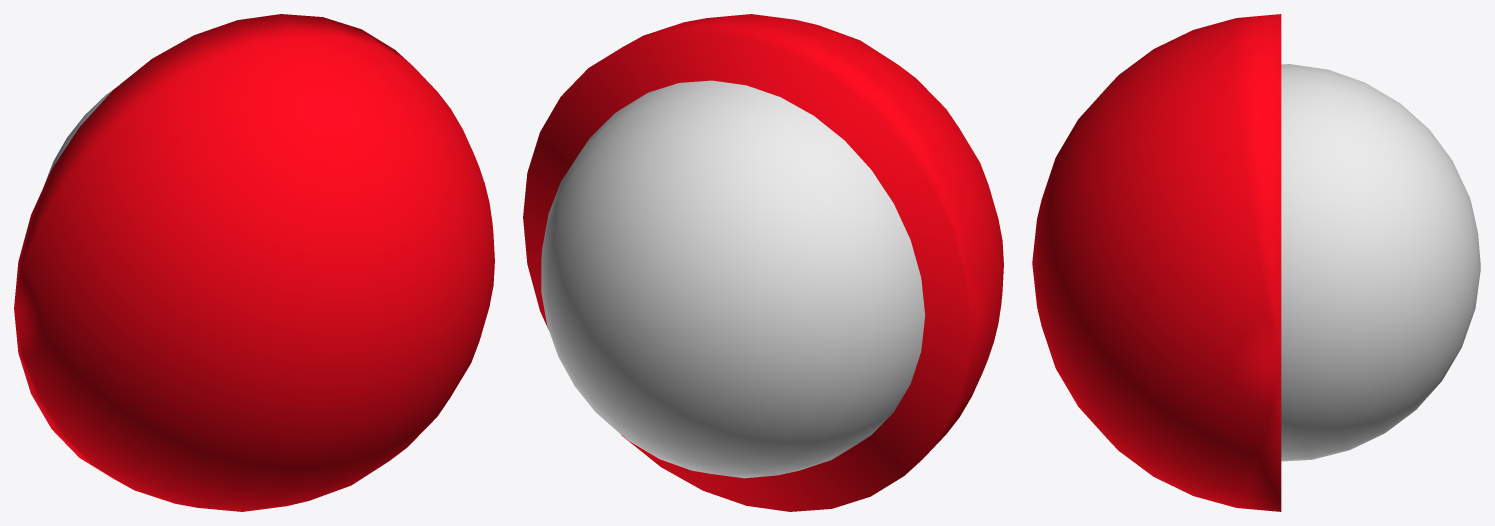
File: input_unidirectional.glb
The picture shows the model from 3 angles, left to right: view 1: azimuth 30°, elevation 25°; view 2: azimuth 150°, elevation 25°; view 3: azimuth 270°, elevation 25°; orthographic projection. The views are drawn at different scales.
Visible parts, largest first — view 1: Sphere.002; view 2: Sphere.001, Sphere.002; view 3: Sphere.002, Sphere.001.
Boxes of the visible parts, box(x1,y1,x2,y2) form: Sphere.002: box(14, 14, 494, 511); Sphere.001: box(541, 80, 925, 478); Sphere.002: box(523, 14, 1003, 511); Sphere.002: box(1032, 14, 1281, 511); Sphere.001: box(1281, 64, 1480, 461).
Size of the model in its own units: 0.6 by 0.6 by 0.5399.
